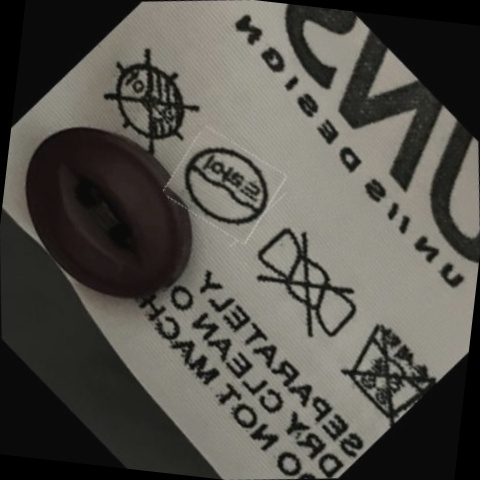DN_dry: (94, 45, 208, 160)
DN_wring: (242, 222, 370, 350)
dry_clean: (174, 133, 276, 239)
hand_wash: (332, 309, 440, 426)
